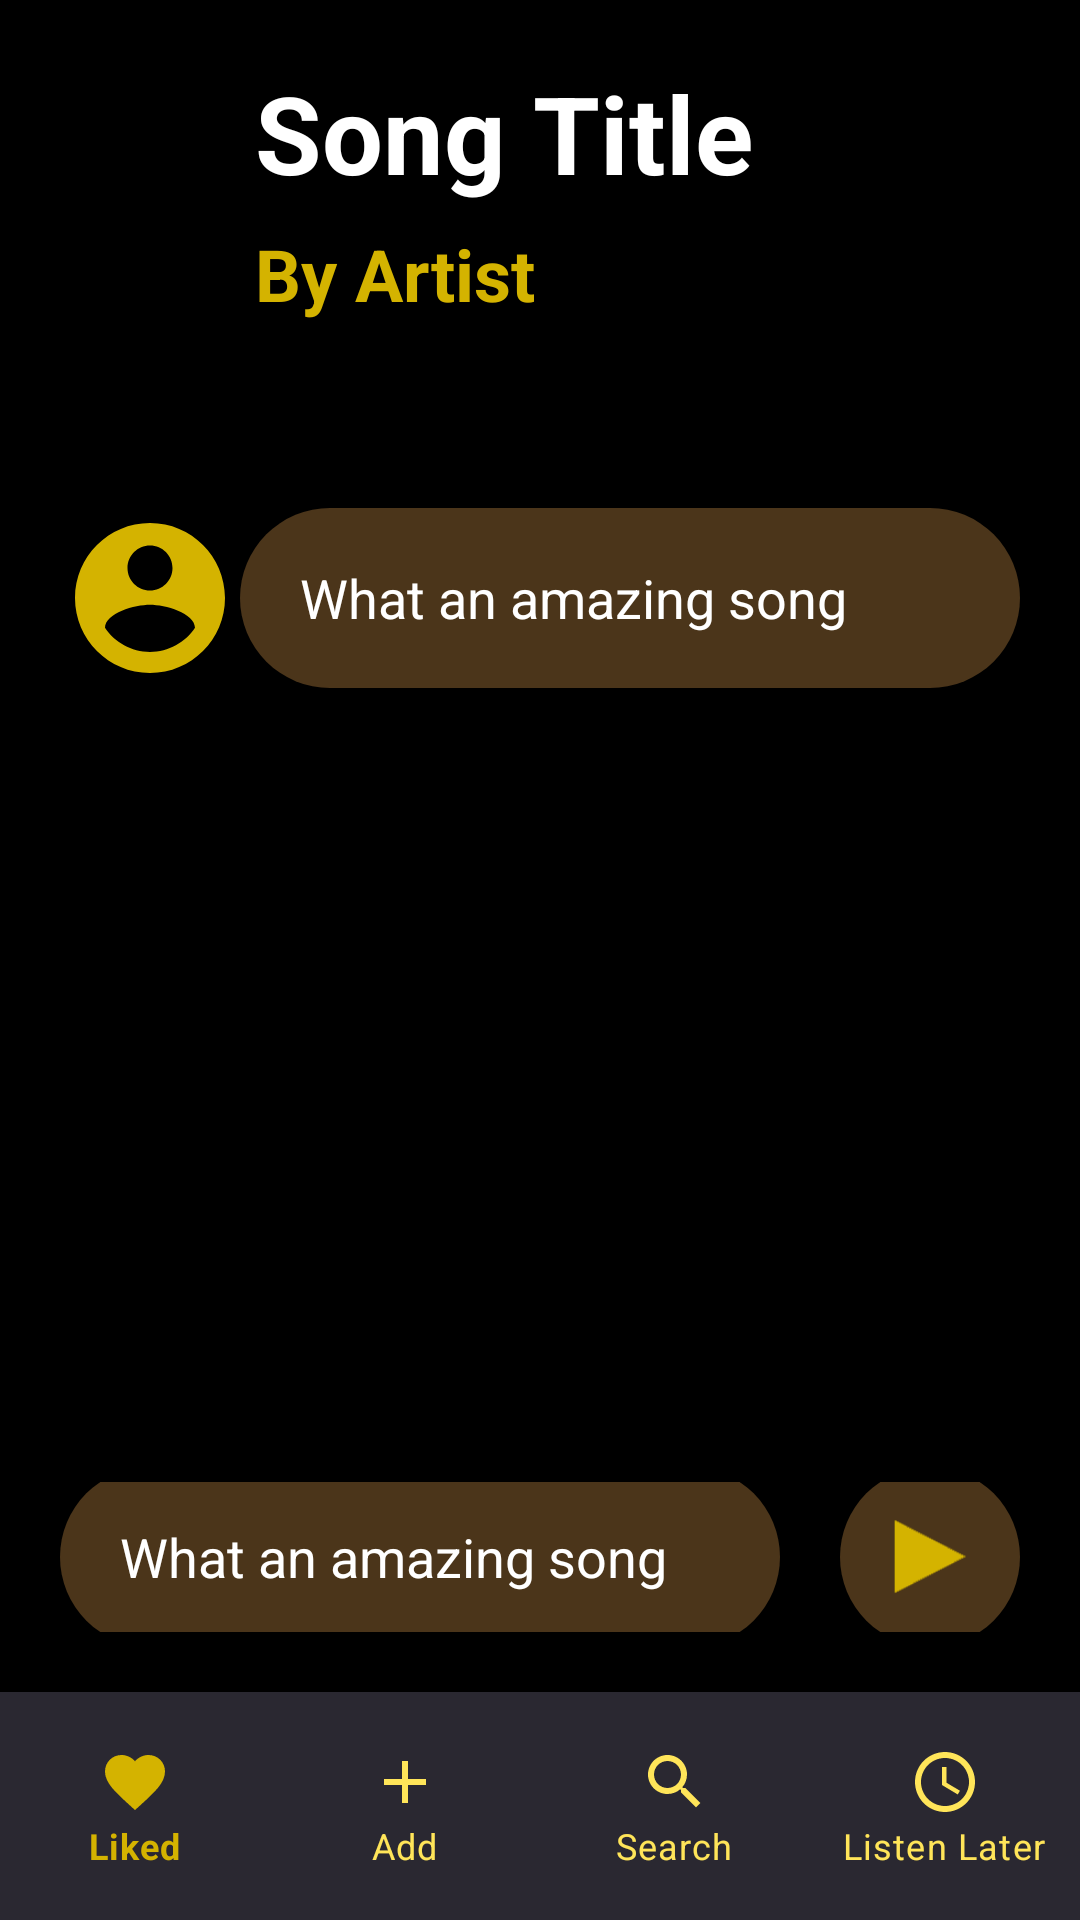

Point at icon controls on the screen. Image size 1080px×1920px, points as (x=x, y=y).
person: (x=150, y=598)
Play Icon: (x=930, y=1556)
